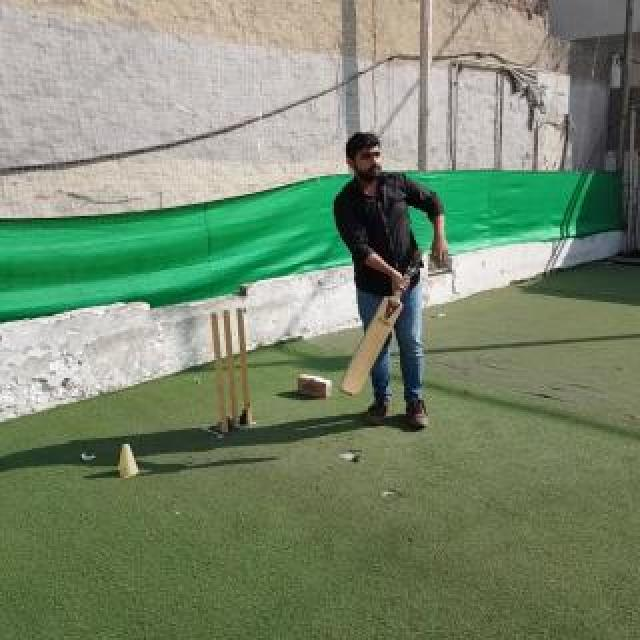bat: (339, 251, 423, 397)
